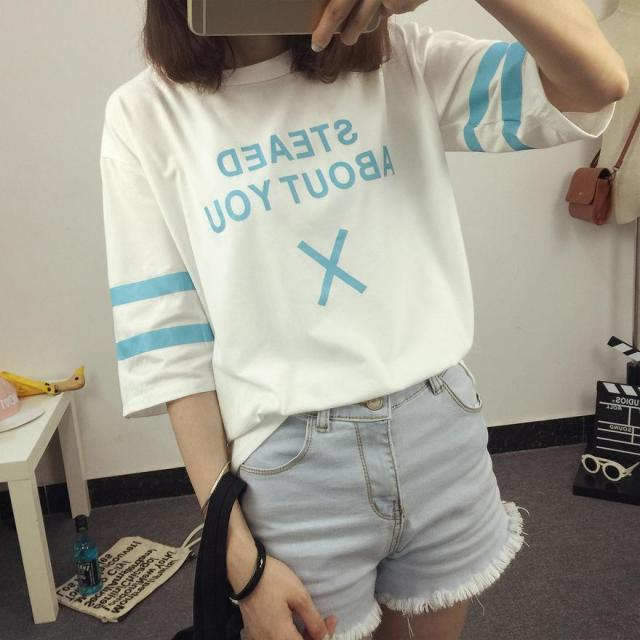long sleeve top: (109, 10, 593, 471)
shorts: (228, 350, 518, 635)
